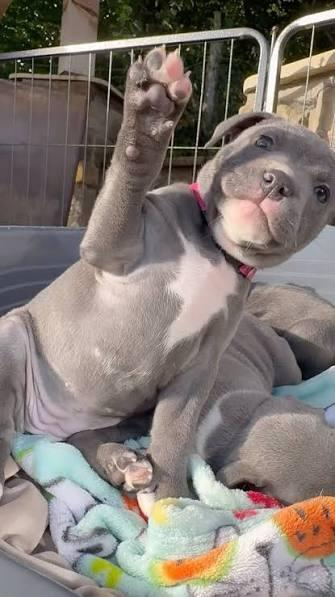puppy-dog: (0, 42, 335, 502), (64, 280, 335, 512)
